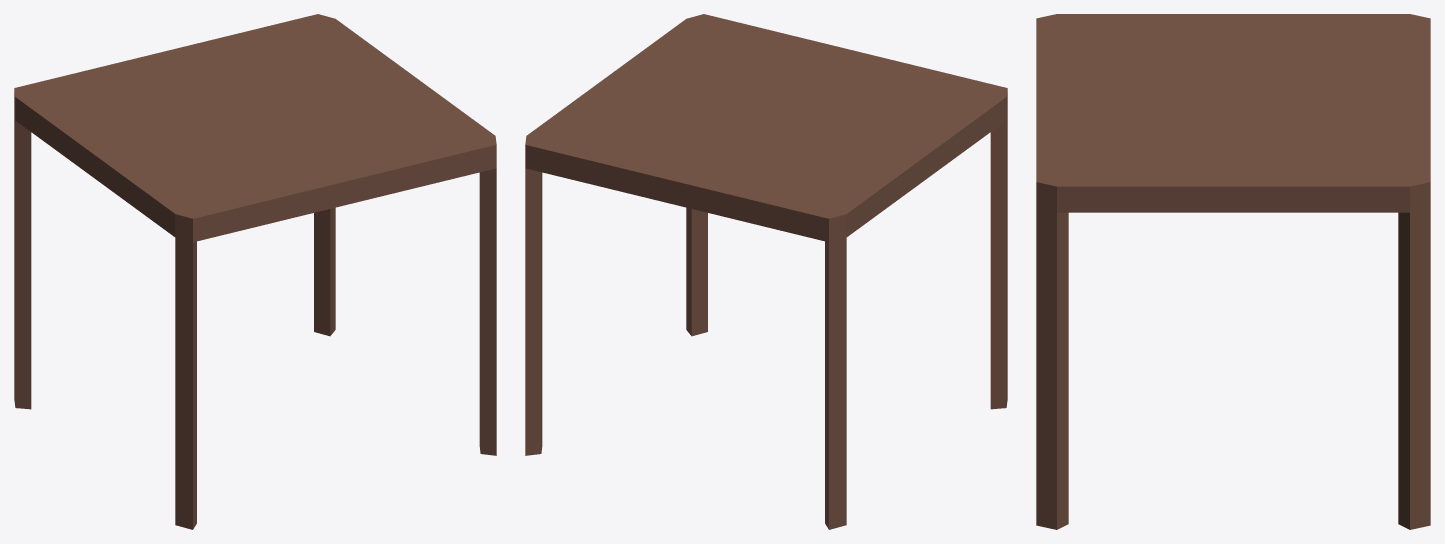
The model's file is table.glb.
The picture shows the model from 3 angles, left to right: view 1: azimuth 30°, elevation 25°; view 2: azimuth 150°, elevation 25°; view 3: azimuth 270°, elevation 25°; orthographic projection. The views are drawn at different scales.
Parts seen in each view (by area): view 1: node-0; view 2: node-0; view 3: node-0.
Boxes of the visible parts, x1,y1,x2,y2 form: node-0: [14, 14, 496, 529]; node-0: [525, 14, 1007, 529]; node-0: [1036, 14, 1430, 529].
Bounding box in the file's own units: 0.9948 × 0.9235 × 0.9611.
